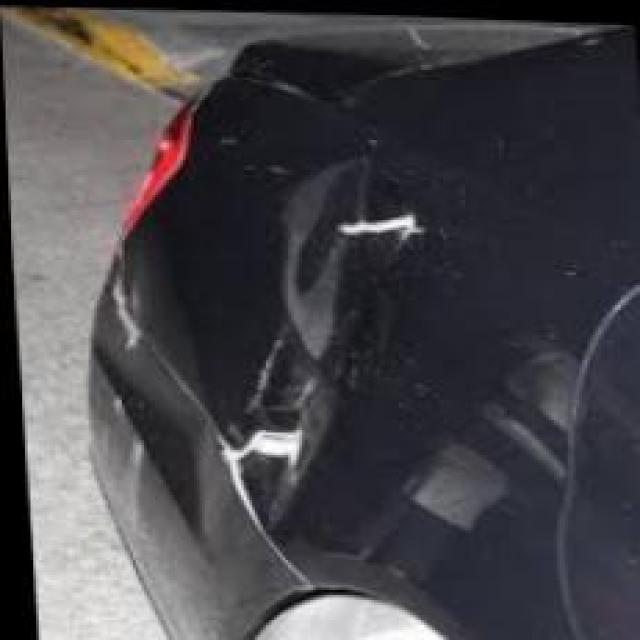Fender: (118, 84, 554, 531)
